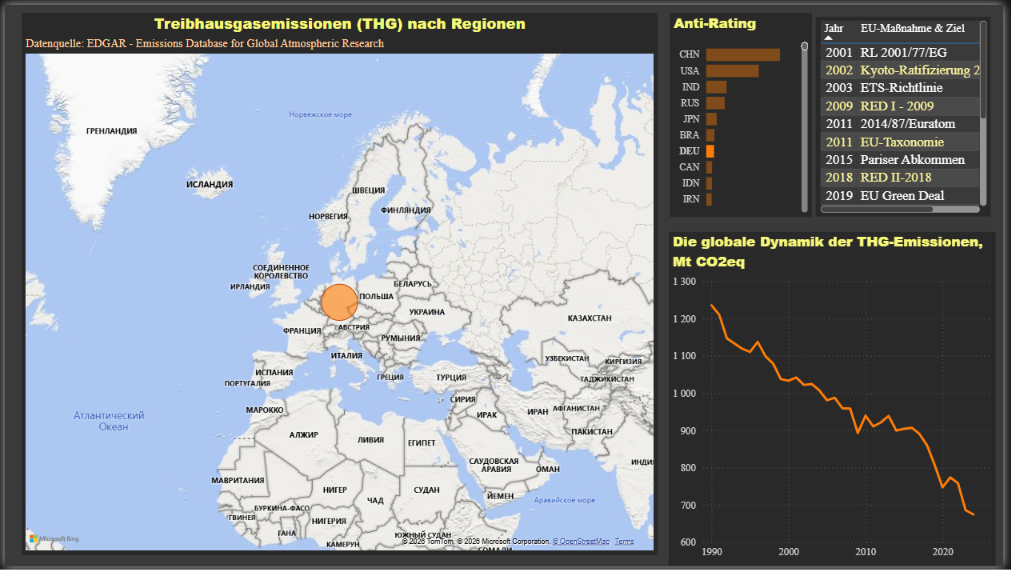

What the dashboard file says about the page in this screenshot:
{"tool":"powerbi","page":{"name":"Weltsituation","canvas":[1280,720],"ordinal":0},"visuals":[{"type":"map","title":"Treibhausgasemissionen (THG) nach Regionen","fields":{"Category":["dim_country.Country"],"Size":["Sum(fact_GHG.Emission_sector)"]},"box":[21.4,10.7,815.1,694.1],"z":0},{"type":"clusteredBarChart","title":"Anti-Rating ","fields":{"Y":["Sum(fact_GHG.Emission_sector)"],"Category":["dim_country.Country Code"]},"box":[852.1,10.8,182.2,261.3],"z":1000},{"type":"lineChart","title":"Die globale Dynamik der THG-Emissionen, Mt CO2eq","fields":{"Category":["dim_year.Year"],"Y":["fact_GHG.Total GHG"]},"box":[851.9,291.6,419.6,428.1],"z":2000},{"type":"tableEx","fields":{"Values":["E-Maßnahme.Jahr","E-Maßnahme.EU-Maßnahme & Ziel","E-Maßnahme.Ebene"]},"box":[1040,16,224,256],"z":3000}]}

Visuals, with their boxes in screenshot pixels (x1, y1, x2, y2), scaled from the page's 1280x720 canvas onto the 1011x570 screenshot:
"Treibhausgasemissionen (THG) nach Regionen" map: l=17, t=8, r=661, b=558
"Anti-Rating " clusteredBarChart: l=673, t=9, r=817, b=215
"Die globale Dynamik der THG-Emissionen, Mt CO2eq" lineChart: l=673, t=231, r=1004, b=569
tableEx - E-Maßnahme.Jahr x E-Maßnahme.EU-Maßnahme & Ziel: l=821, t=13, r=998, b=215
